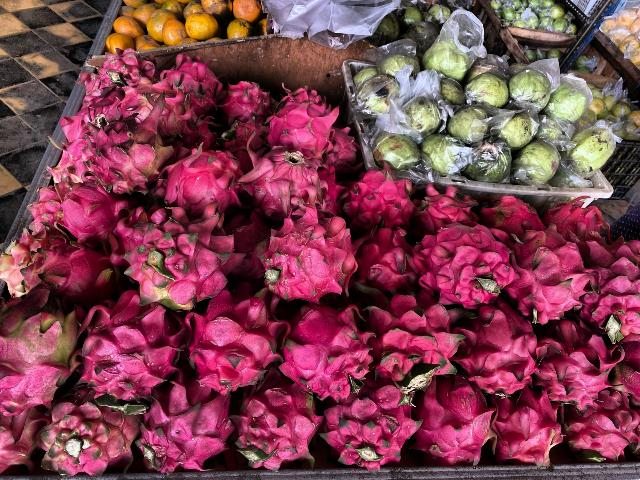buah-naga-belum-matang: (121, 214, 235, 308), (36, 388, 140, 478), (0, 307, 82, 399), (112, 78, 204, 146), (83, 118, 177, 182), (0, 239, 72, 297)
buah-naga-matang: (78, 299, 194, 401), (362, 296, 466, 392), (178, 292, 284, 384), (252, 208, 360, 294), (133, 380, 234, 471), (529, 307, 615, 413), (236, 382, 320, 480), (317, 378, 408, 464), (458, 304, 546, 390), (252, 80, 342, 162), (239, 142, 331, 220), (408, 380, 492, 462), (286, 296, 360, 386), (502, 226, 576, 316), (486, 389, 566, 470), (584, 232, 640, 347), (421, 217, 495, 304), (32, 240, 124, 296), (340, 170, 416, 234), (52, 180, 132, 240), (558, 406, 640, 464)
